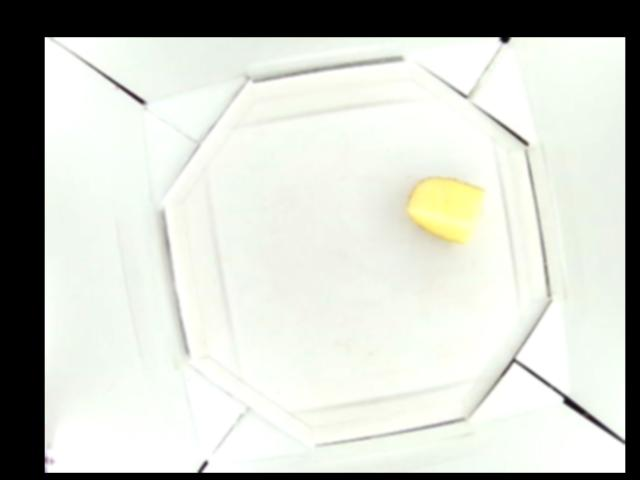Potato: (409, 174, 483, 245)
